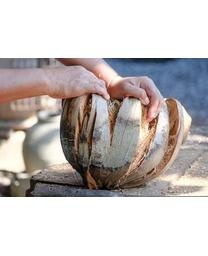coconut: (59, 82, 185, 190)
